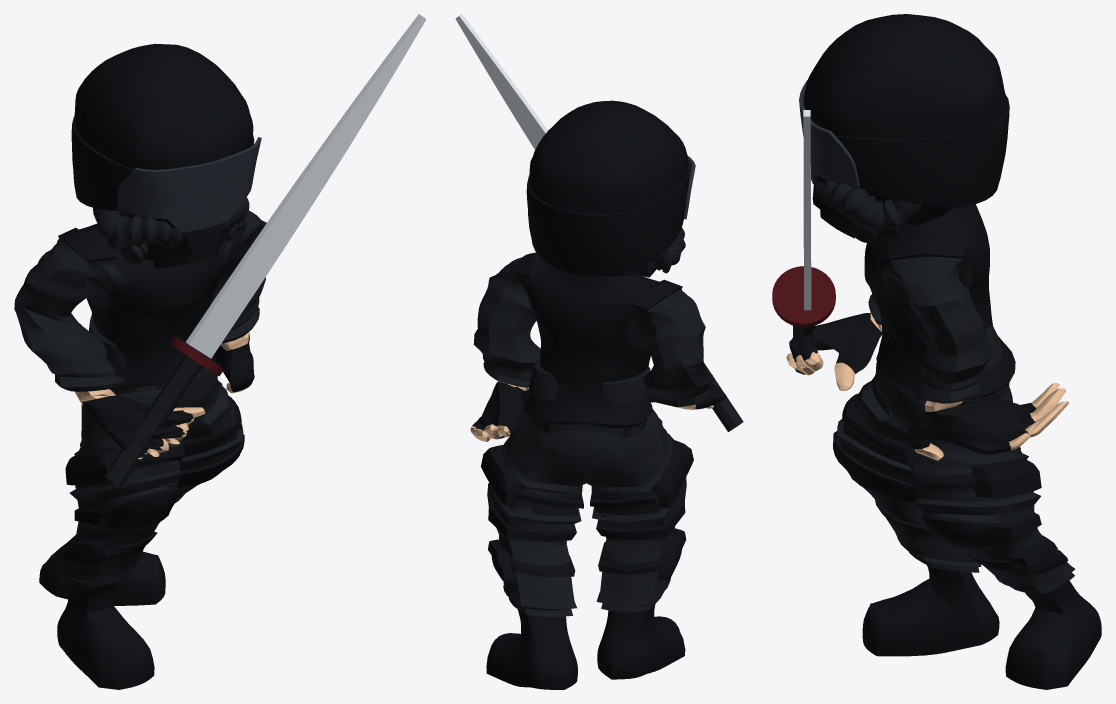
The model's file is av-ninja-dojo.glb.
The picture shows the model from 3 angles, left to right: view 1: azimuth 30°, elevation 25°; view 2: azimuth 150°, elevation 25°; view 3: azimuth 270°, elevation 25°; orthographic projection. The views are drawn at different scales.
Parts seen in each view (by area): view 1: Ad_katana_0_0; view 2: Ad_katana_0_0; view 3: Ad_katana_0_0.
Boxes of the visible parts, x1=… form: Ad_katana_0_0: x1=14, y1=14, x2=426, y2=689; Ad_katana_0_0: x1=455, y1=14, x2=743, y2=689; Ad_katana_0_0: x1=772, y1=14, x2=1101, y2=689.
Size of the model in its own units: 0.8173 by 1.43 by 0.6372.
1 material, 1 textured.
